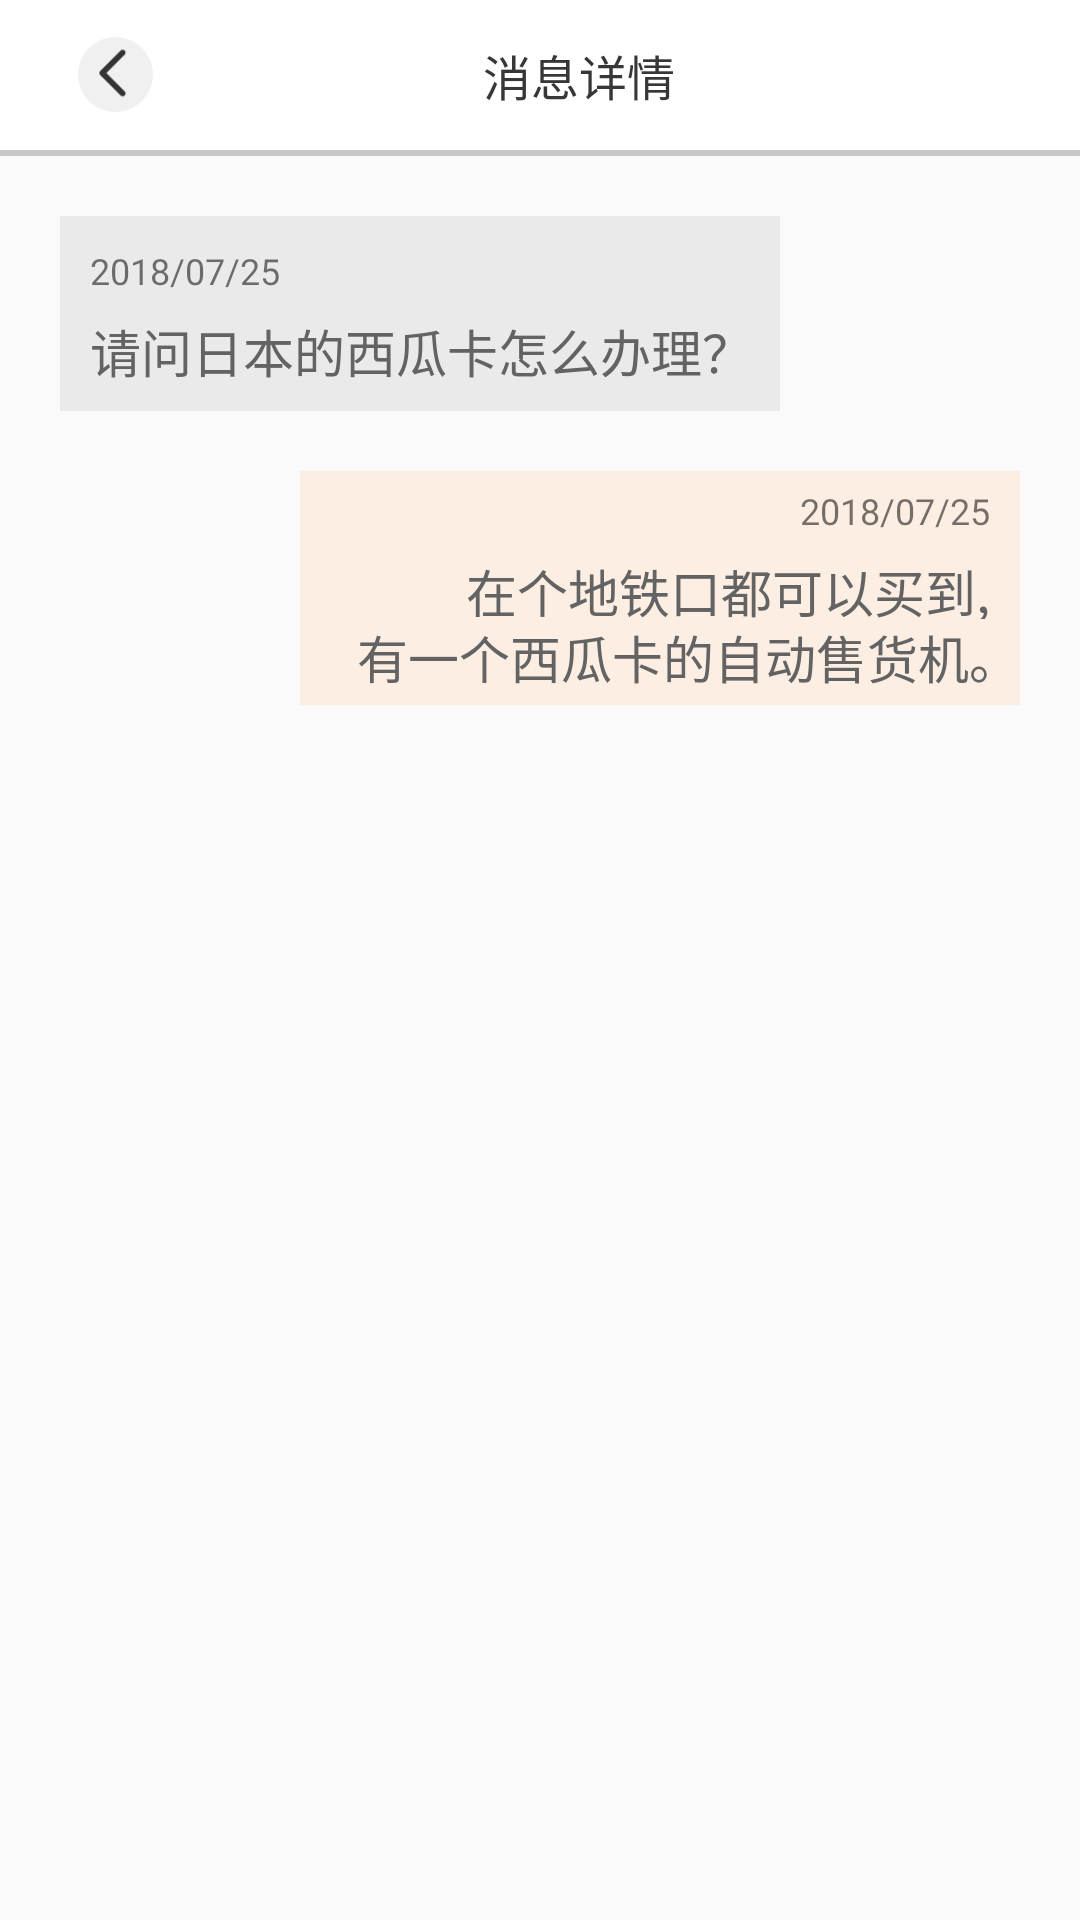

Where to tap for icons on this 1080x1920 app screen, as (x,y):
back: (115,74)
